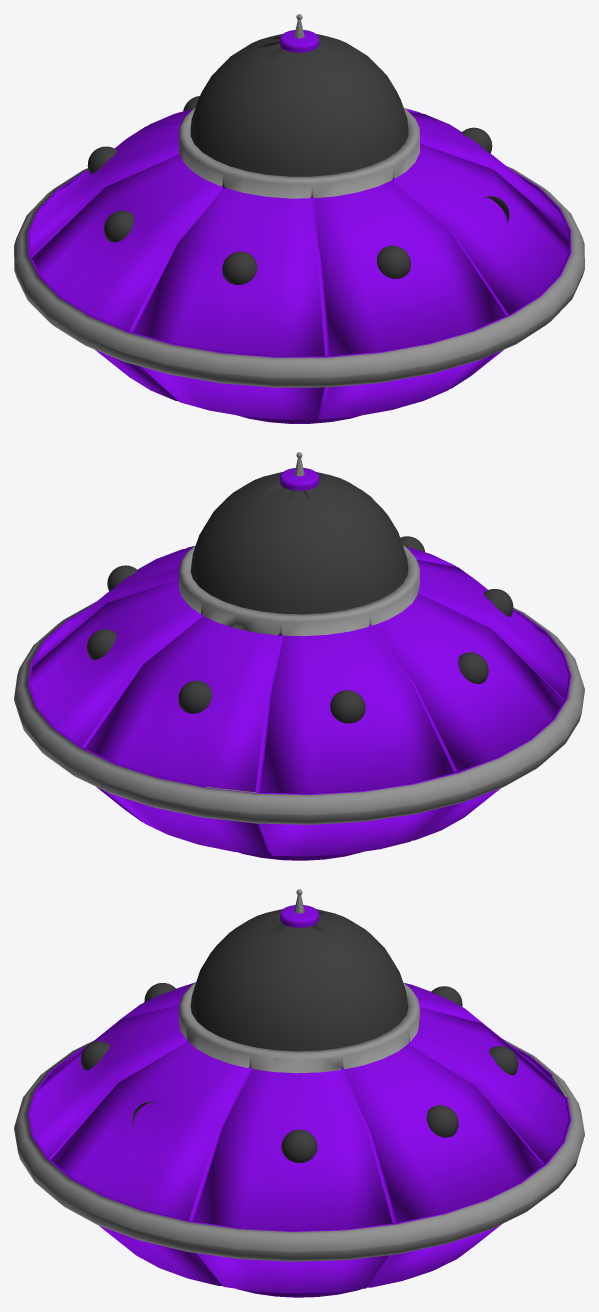
File: fighter4.glb
3 renders of one model, top to bottom at view 1: azimuth 30°, elevation 25°; view 2: azimuth 150°, elevation 25°; view 3: azimuth 270°, elevation 25°, orthographic.
Visible parts, largest first — view 1: Cilindro, Cilindro.003; view 2: Cilindro, Cilindro.003; view 3: Cilindro, Cilindro.003.
Part boxes in pixels (box(x1,y1,x2,y2)): Cilindro: box(14, 34, 584, 423); Cilindro.003: box(280, 30, 318, 52); Cilindro: box(14, 472, 584, 860); Cilindro.003: box(280, 468, 318, 490); Cilindro: box(14, 909, 584, 1297); Cilindro.003: box(280, 905, 318, 927).
Size of what is drawn, in the model's own units: 2.1 by 1.47 by 2.1.
